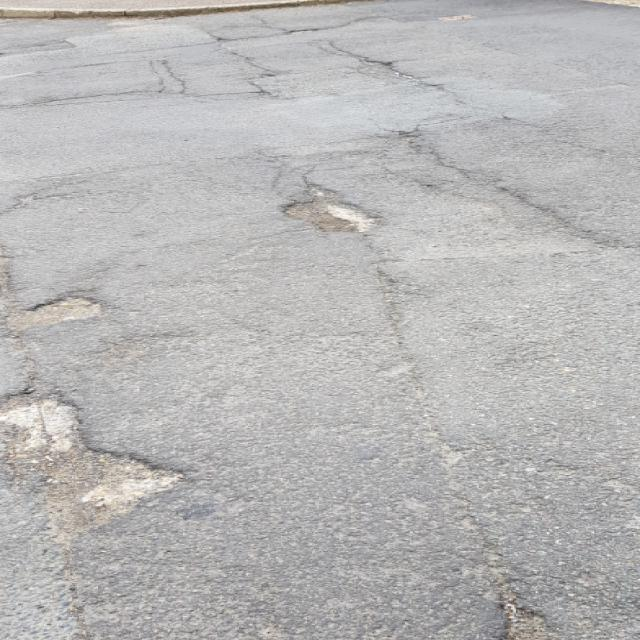Pothole: (3, 381, 201, 535), (279, 181, 389, 241), (20, 286, 110, 324)
